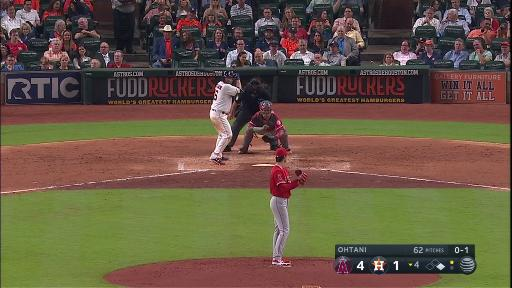pitcher: (269, 147, 309, 263)
